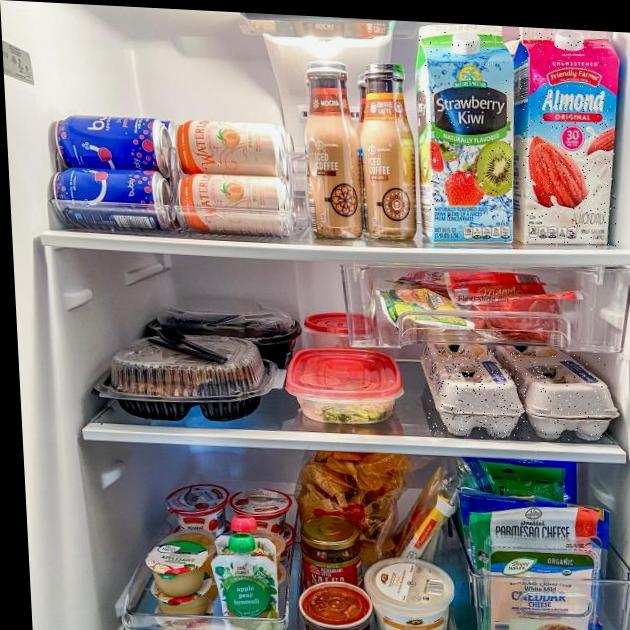eggs: (425, 347, 523, 440), (517, 352, 614, 443)
milk: (516, 32, 619, 248), (417, 28, 516, 242)
